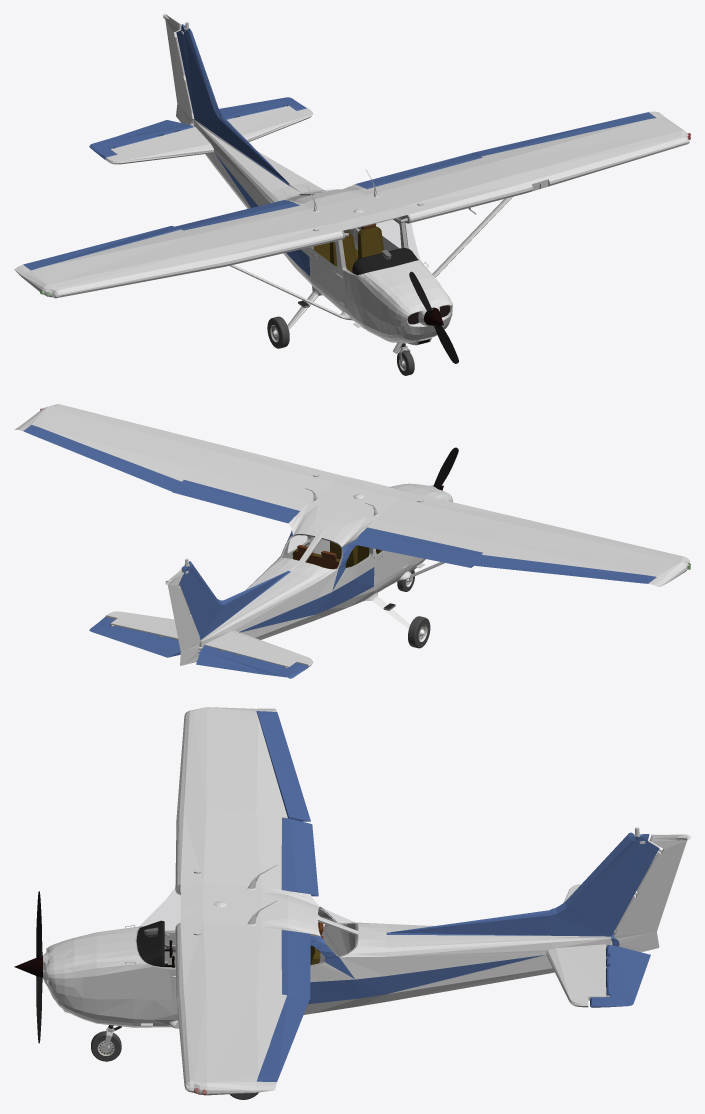
Rendered from Cessna172.fbx.
3 renders of one model, top to bottom at view 1: azimuth 30°, elevation 25°; view 2: azimuth 150°, elevation 25°; view 3: azimuth 270°, elevation 25°, orthographic. The views are drawn at different scales.
Parts seen in each view (by area): view 1: cessna172sp.Shape; view 2: cessna172sp.Shape; view 3: cessna172sp.Shape.
Boxes of the visible parts, <box> form: cessna172sp.Shape: <box>14,14,690,375</box>; cessna172sp.Shape: <box>14,404,690,678</box>; cessna172sp.Shape: <box>14,707,689,1099</box>.
Size of the model in its own units: 439 by 123 by 326.
Materials: 59 (3 with a texture image).
